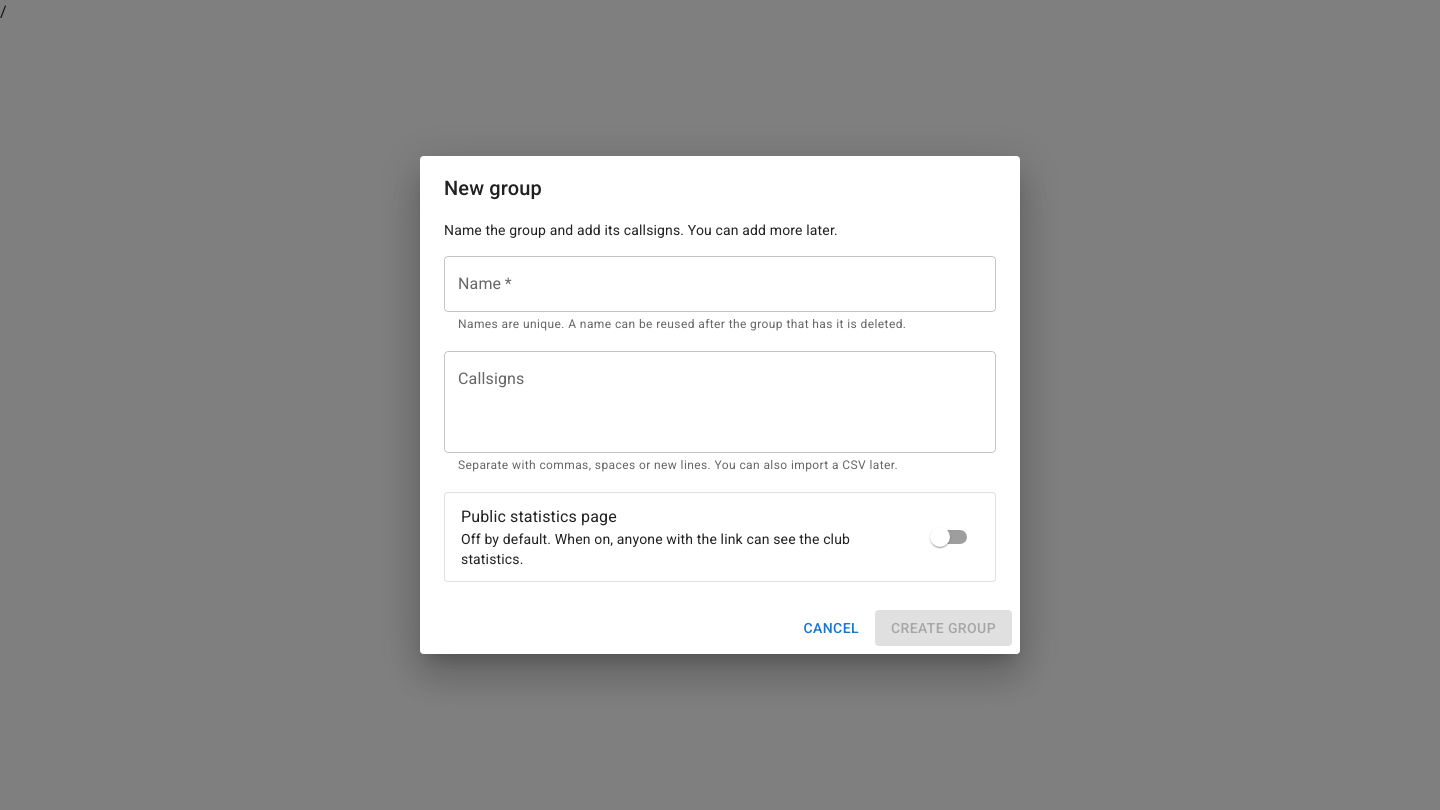
Test: NewGroupDialog › reports a count that can't be worked out instead of confirming
In the text box labelled "Callsigns": (720, 402) [458,367,982,436], type "W4ABC"
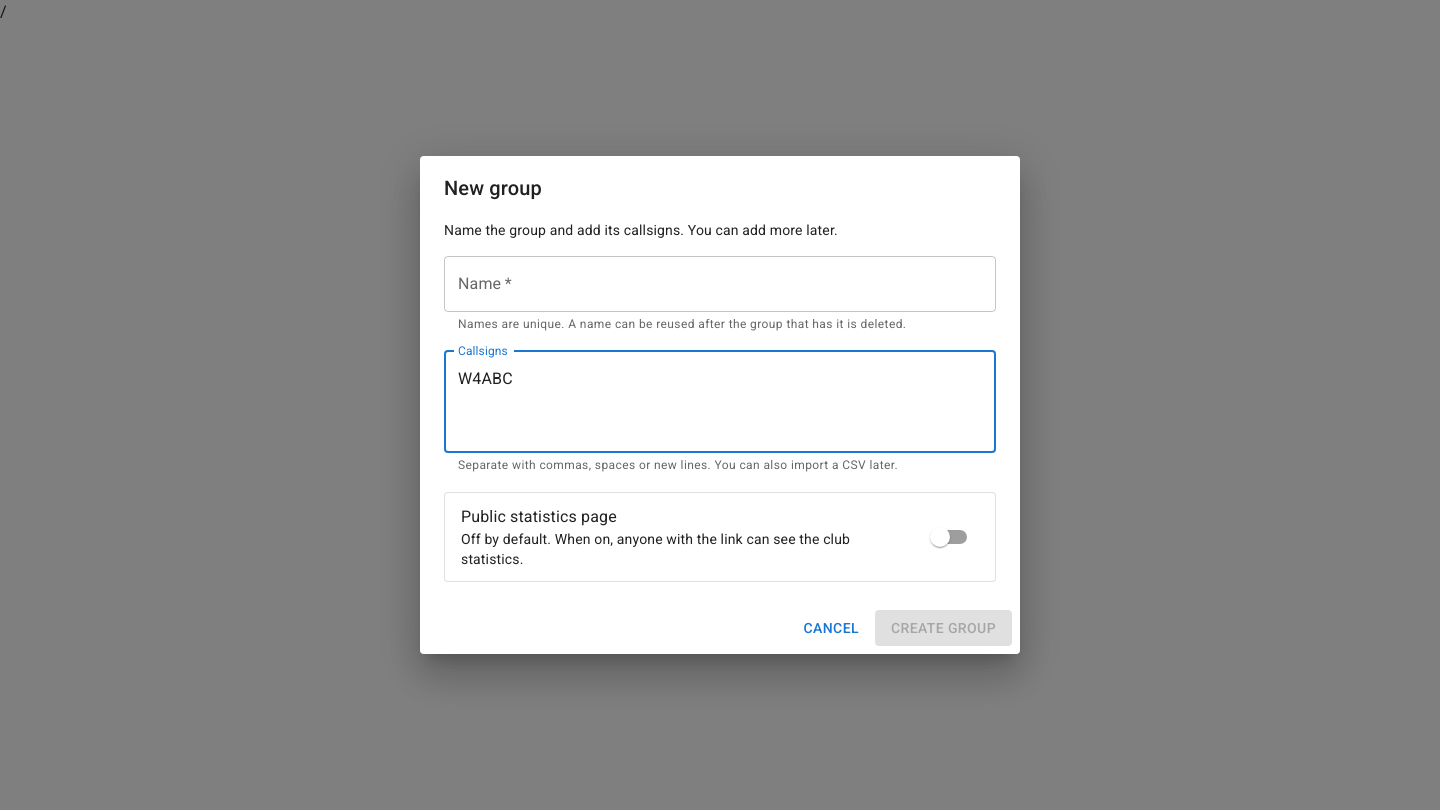
Click the switch named "Public statistics page": (940, 537) [930,527,950,547]
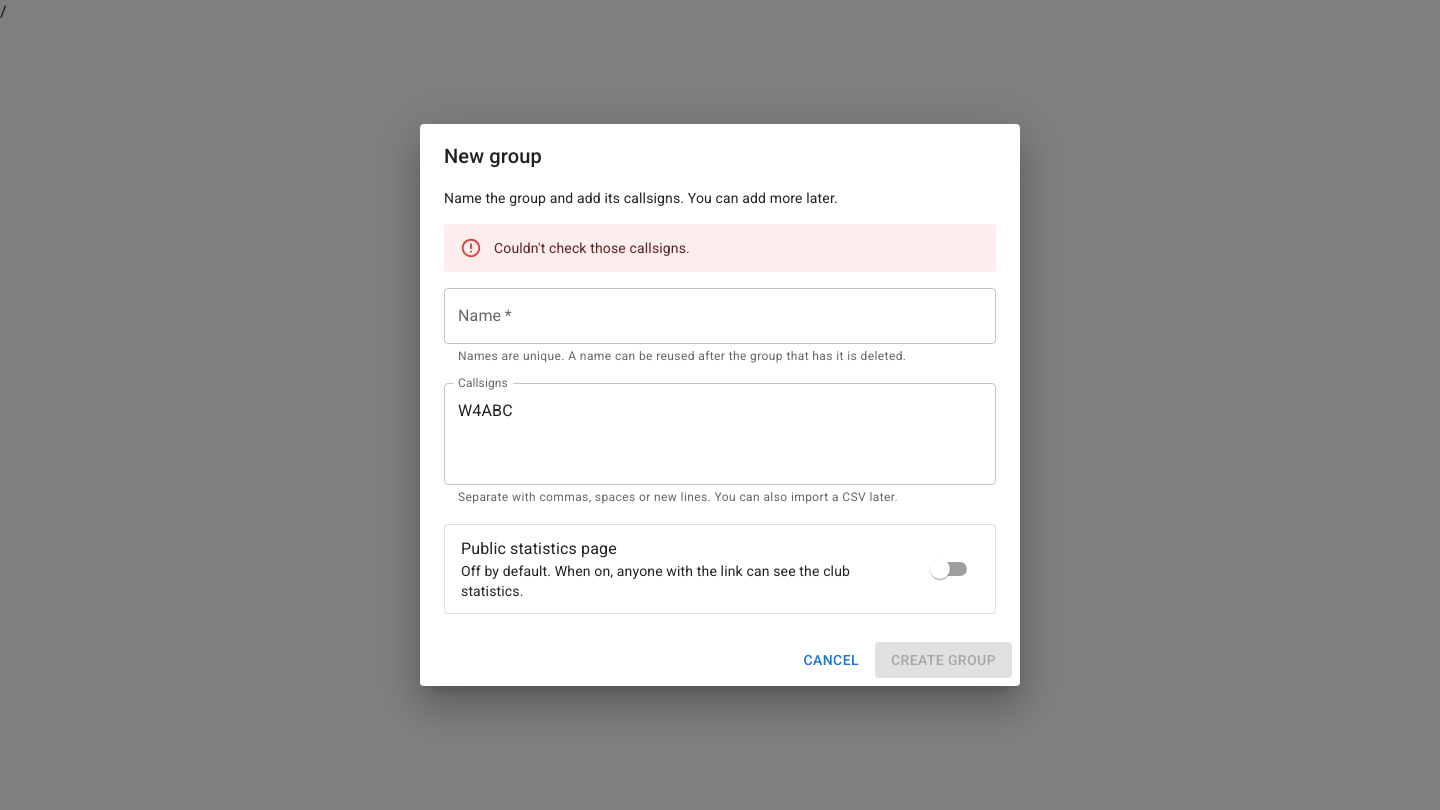
Result: the text "Couldn't check those callsigns." is shown at [494,240,690,256]
